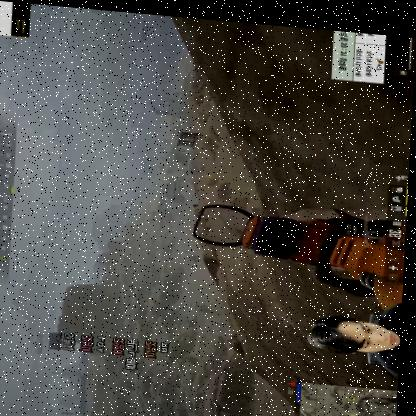streamer: (307, 278, 406, 372)
